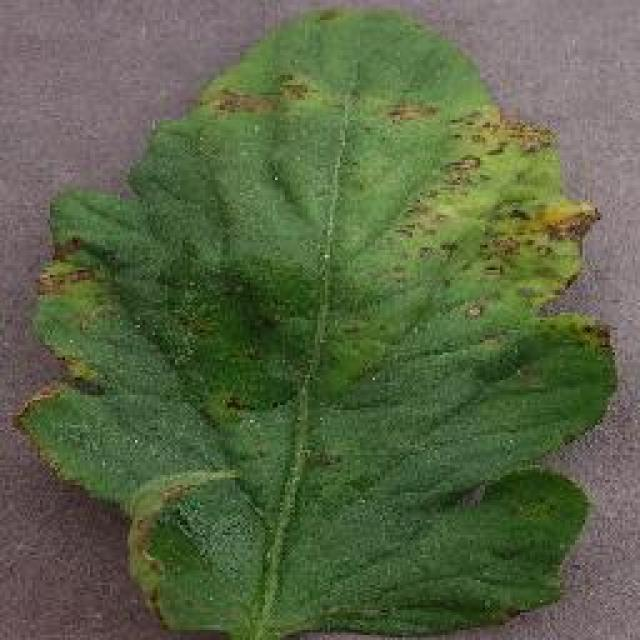Tomato bacterial spot leaf: (35, 15, 600, 627)
